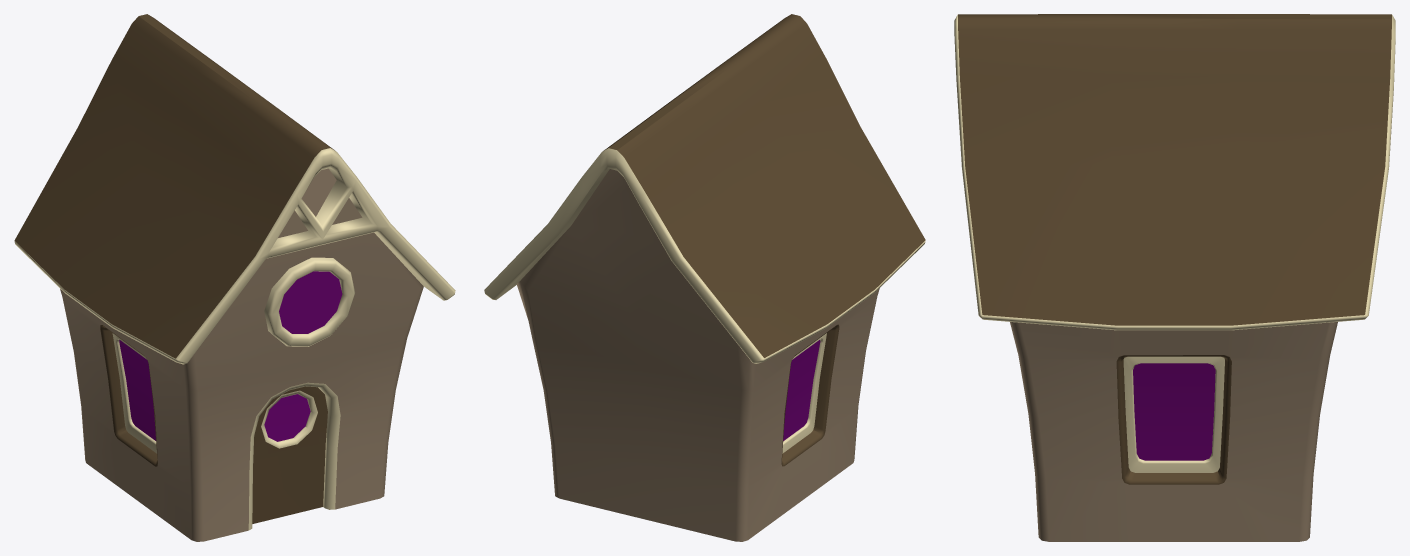
File: House_MDL 1.fbx
3 views of the same model, side by side, from view 1: azimuth 30°, elevation 25°; view 2: azimuth 150°, elevation 25°; view 3: azimuth 270°, elevation 25° (orthographic). The views are drawn at different scales.
Visible parts, largest first — view 1: House_GEO; view 2: House_GEO; view 3: House_GEO.
Boxes of the visible parts, bbox=[...] form: House_GEO: bbox=[14, 14, 455, 541]; House_GEO: bbox=[484, 14, 925, 541]; House_GEO: bbox=[954, 14, 1395, 541].
Size of the model in its own units: 397 by 513 by 437.
